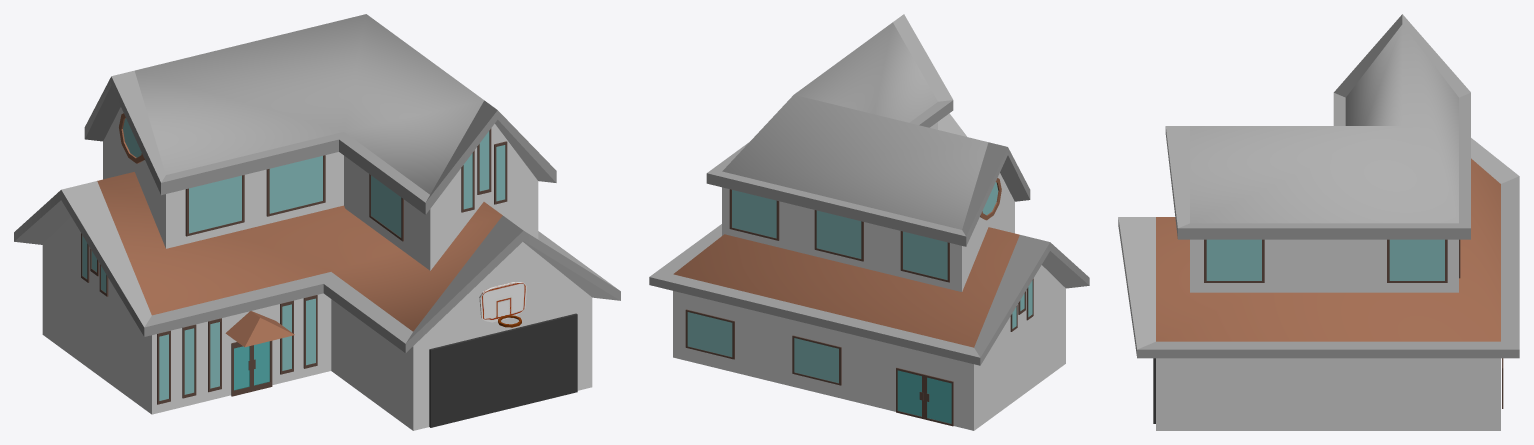
File: Building_HouseSuburban_Mod_01 (2).fbx
3 renders of one model, left to right at view 1: azimuth 30°, elevation 25°; view 2: azimuth 150°, elevation 25°; view 3: azimuth 270°, elevation 25°, orthographic. The views are drawn at different scales.
Visible parts, largest first — view 1: FirstFloor, SecondFloor, Awning (×2), Awning2, GarageDoor, WindowsTall, WindowsSquare, BasketBallHoop, DoorLeft, DoorRight, WindowRound; view 2: FirstFloor, SecondFloor, Awning, WindowsSquare, Awning2, SlidingDoorRight, SlidingDoorLeft, WindowsTall, WindowRound; view 3: FirstFloor, SecondFloor, Awning, Awning2, WindowsSquare.
Part boxes in pixels (x1=…): FirstFloor: x1=42, y1=172, x2=592, y2=430; SecondFloor: x1=103, y1=14, x2=538, y2=270; Awning (×2): x1=14, y1=181, x2=620, y2=353; Awning2: x1=84, y1=70, x2=556, y2=214; GarageDoor: x1=429, y1=313, x2=577, y2=427; WindowsTall: x1=81, y1=128, x2=507, y2=404; WindowsSquare: x1=185, y1=155, x2=403, y2=241; BasketBallHoop: x1=479, y1=282, x2=527, y2=327; DoorLeft: x1=231, y1=342, x2=251, y2=396; DoorRight: x1=252, y1=341, x2=272, y2=391; WindowRound: x1=119, y1=113, x2=144, y2=163; FirstFloor: x1=673, y1=227, x2=1065, y2=430; SecondFloor: x1=722, y1=22, x2=1014, y2=291; Awning: x1=649, y1=113, x2=1089, y2=365; WindowsSquare: x1=685, y1=189, x2=949, y2=385; Awning2: x1=706, y1=14, x2=1030, y2=246; SlidingDoorRight: x1=924, y1=374, x2=953, y2=426; SlidingDoorLeft: x1=896, y1=367, x2=924, y2=419; WindowsTall: x1=1010, y1=278, x2=1033, y2=331; WindowRound: x1=980, y1=178, x2=1001, y2=220; FirstFloor: x1=1156, y1=158, x2=1500, y2=430; SecondFloor: x1=1190, y1=24, x2=1458, y2=292; Awning: x1=1118, y1=138, x2=1519, y2=358; Awning2: x1=1165, y1=14, x2=1470, y2=239; WindowsSquare: x1=1204, y1=239, x2=1503, y2=408.
Size of the model in its own units: 17.42 by 11.9 by 16.28.
